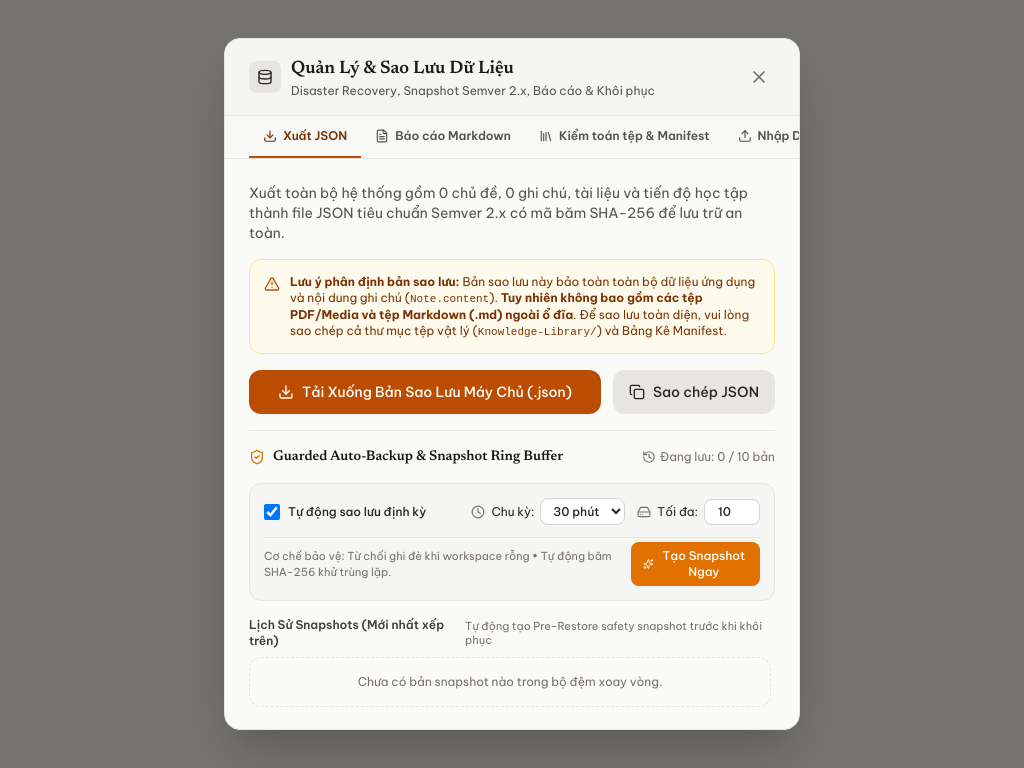
Scenario: Post-Phase 6b: UI - Recommended Structure, Browser Limitation Warning & Backup Checklist › provides a save button for Canonical Library Root and shows feedback
Click the button "Kiểm toán tệp & Manifest" at [624, 137], box [525,116,724,158]
(page scrolled)
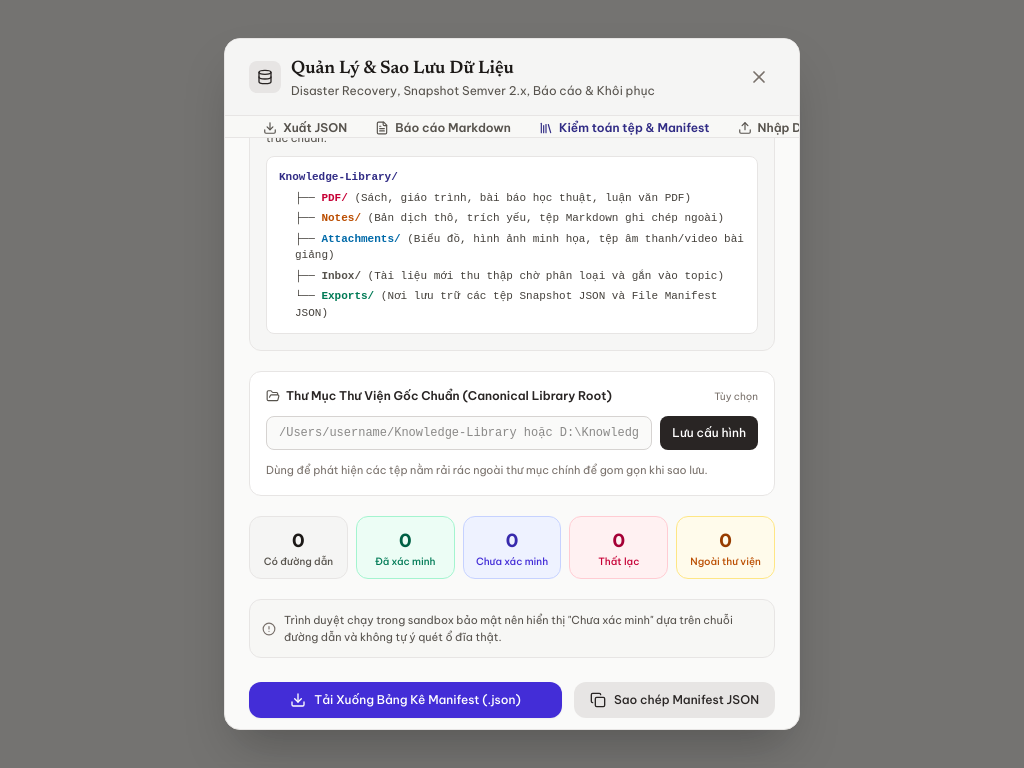
Type "/Users/test/MyLibrary" into the field with placeholder "/Users/username/Knowledge-Library hoặc D:\\Knowledge-Library" at [459, 433], box [266,416,652,450]
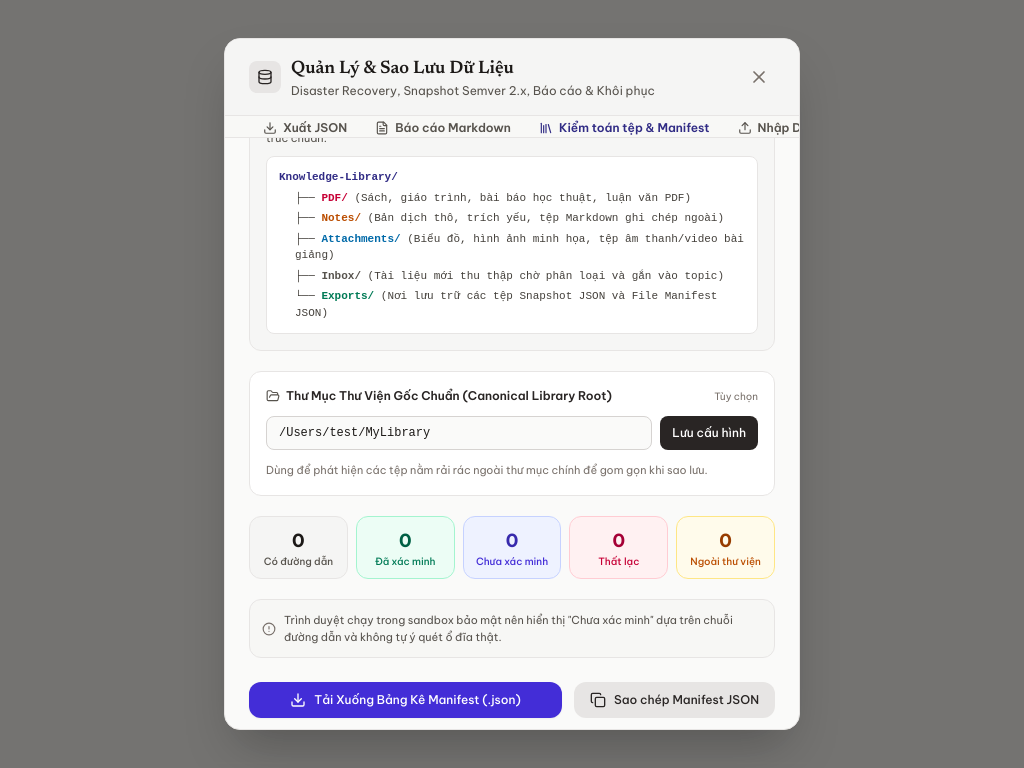
Expected: the button "Lưu cấu hình" is shown
Click the button "Lưu cấu hình" at [709, 433], box [660,416,758,450]
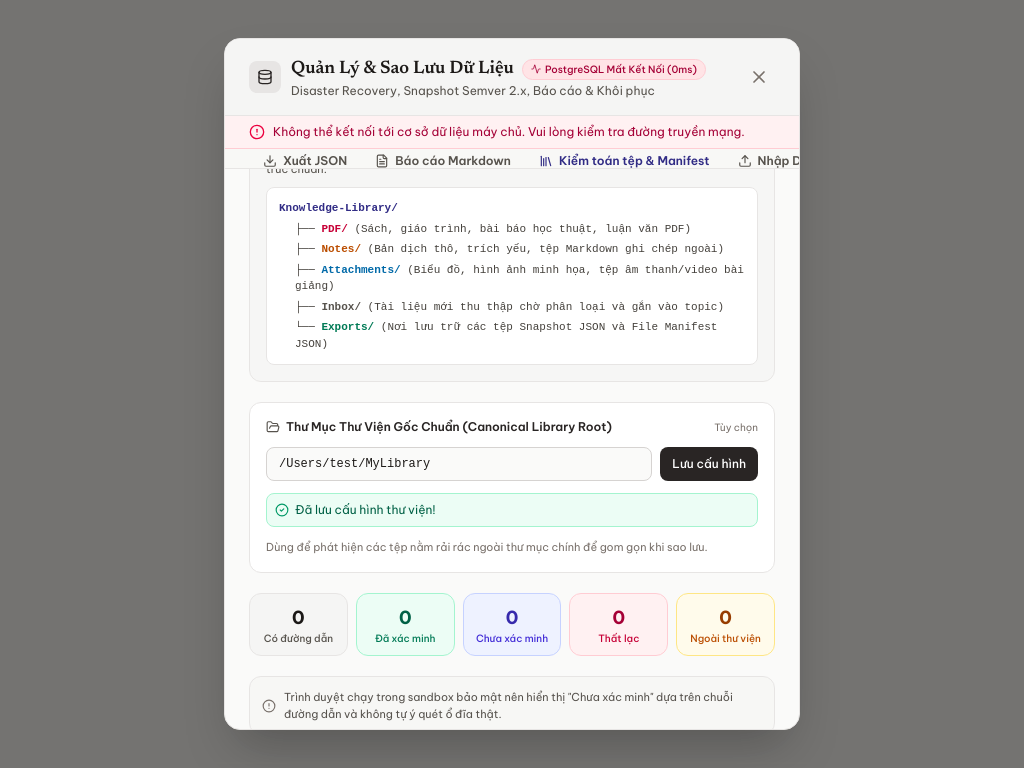
Expected: the text "Đã lưu cấu hình thư viện!" is shown, [295,502,436,518]
